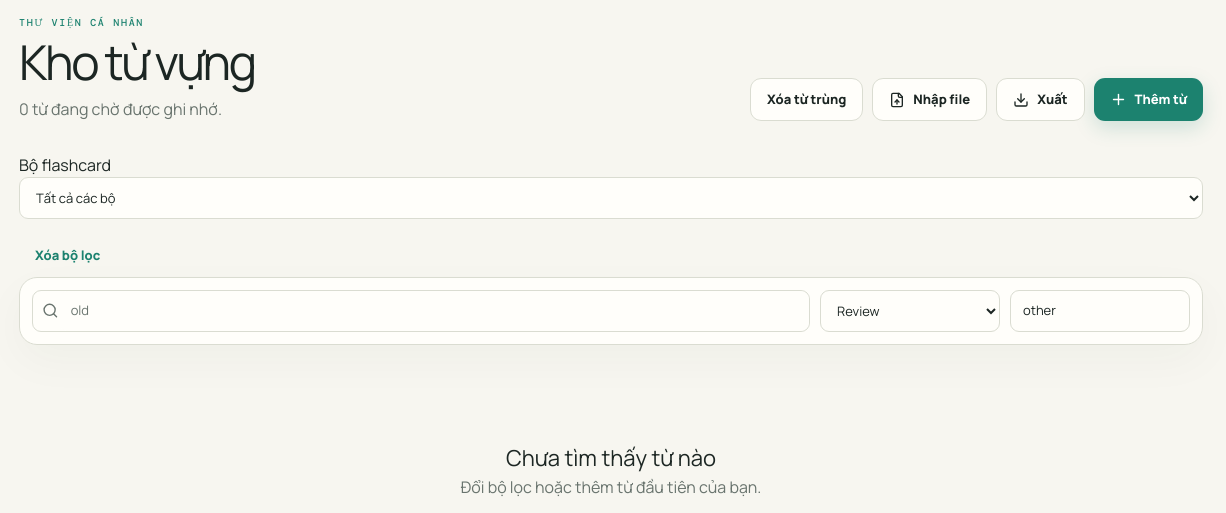
Test: loads the selected deck without stale status, search, tag or page filters
Select "Part 1 (80 từ)" in the dropdown labelled "Bộ flashcard" at (611, 198), box [19,177,1203,219]
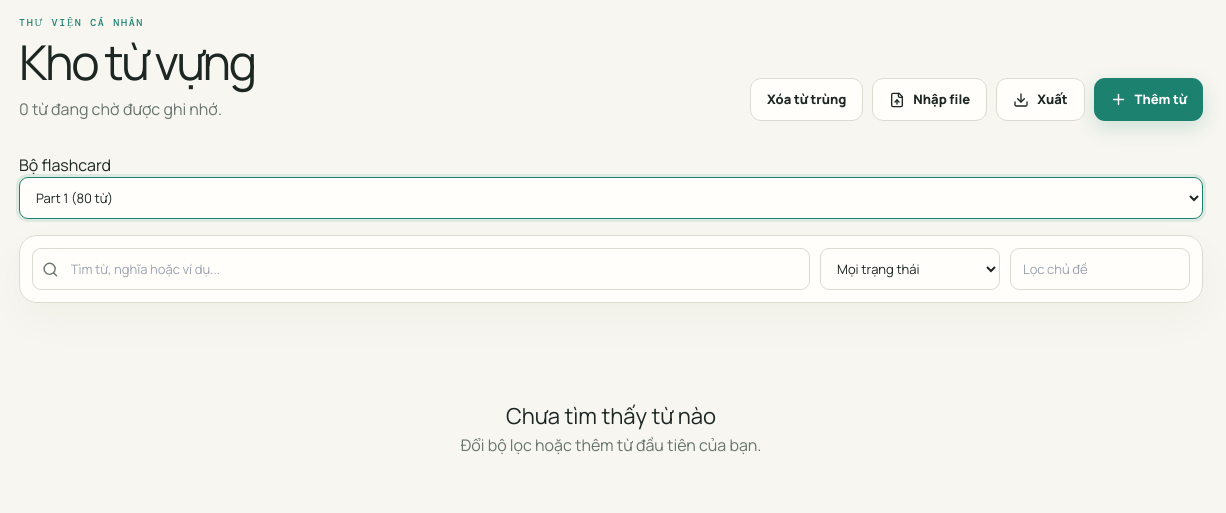
Now the button "Xóa bộ lọc" is gone
